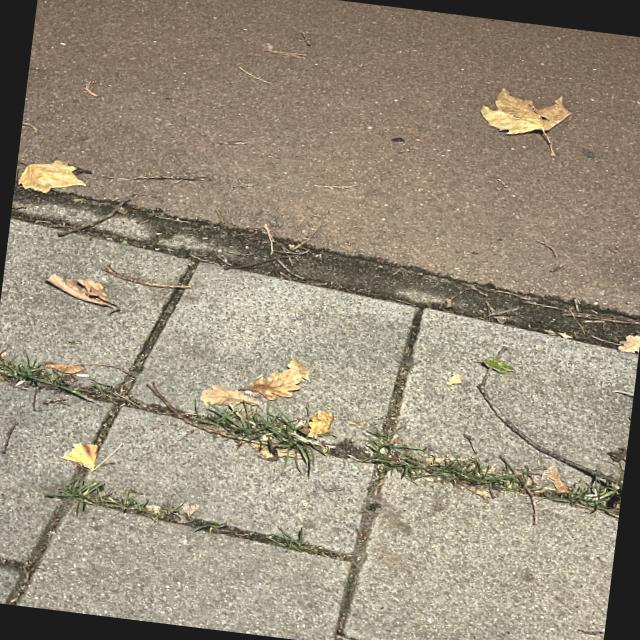leaves: (486, 82, 580, 154), (195, 371, 282, 427), (27, 156, 98, 211), (39, 440, 112, 475), (301, 405, 353, 444), (64, 278, 130, 305), (260, 360, 306, 395)
pavement: (0, 16, 639, 451), (106, 419, 614, 640), (188, 150, 624, 388), (27, 0, 462, 196), (0, 394, 127, 613)
weed: (177, 402, 599, 513), (0, 348, 85, 399)
